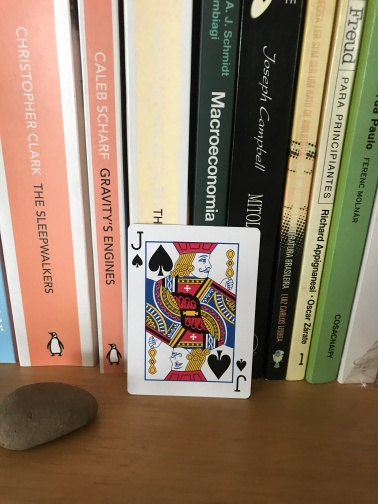jack: (125, 223, 262, 400)
